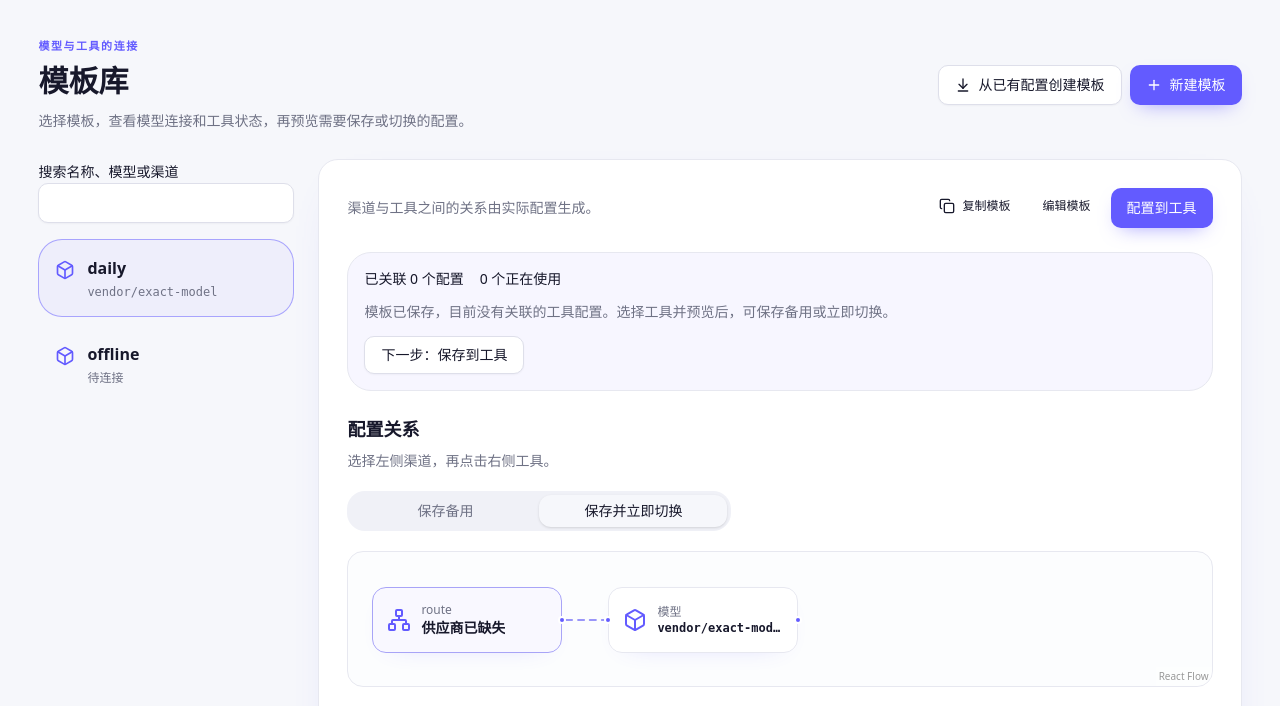
Scenario: searches saved models without probing upstream or hiding disconnected entries
Expected: the heading "offline" is shown, [87,342,139,366]
Type "exact-model" into the field labelled "搜索名称、模型或渠道". click: (166, 203)
box: [38,183,294,223]
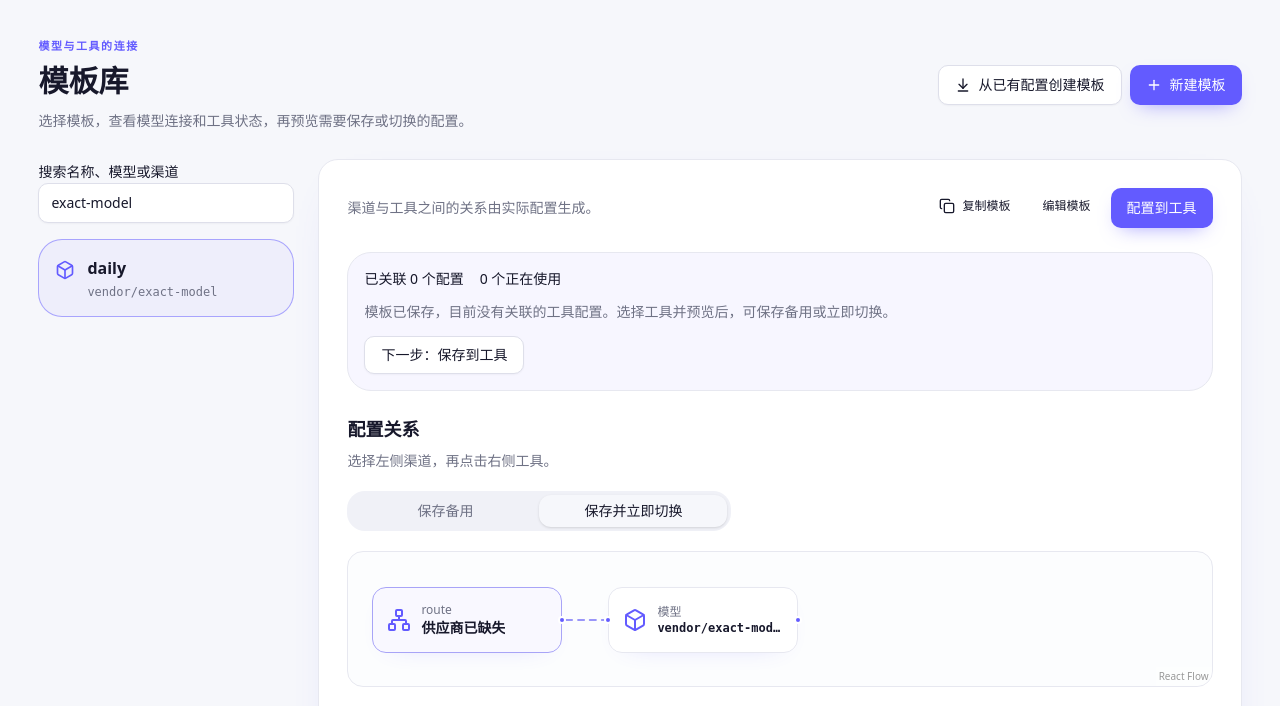
Expected: the heading "daily" is shown, [87,257,126,279]
Expected: the button "offline" is gone
